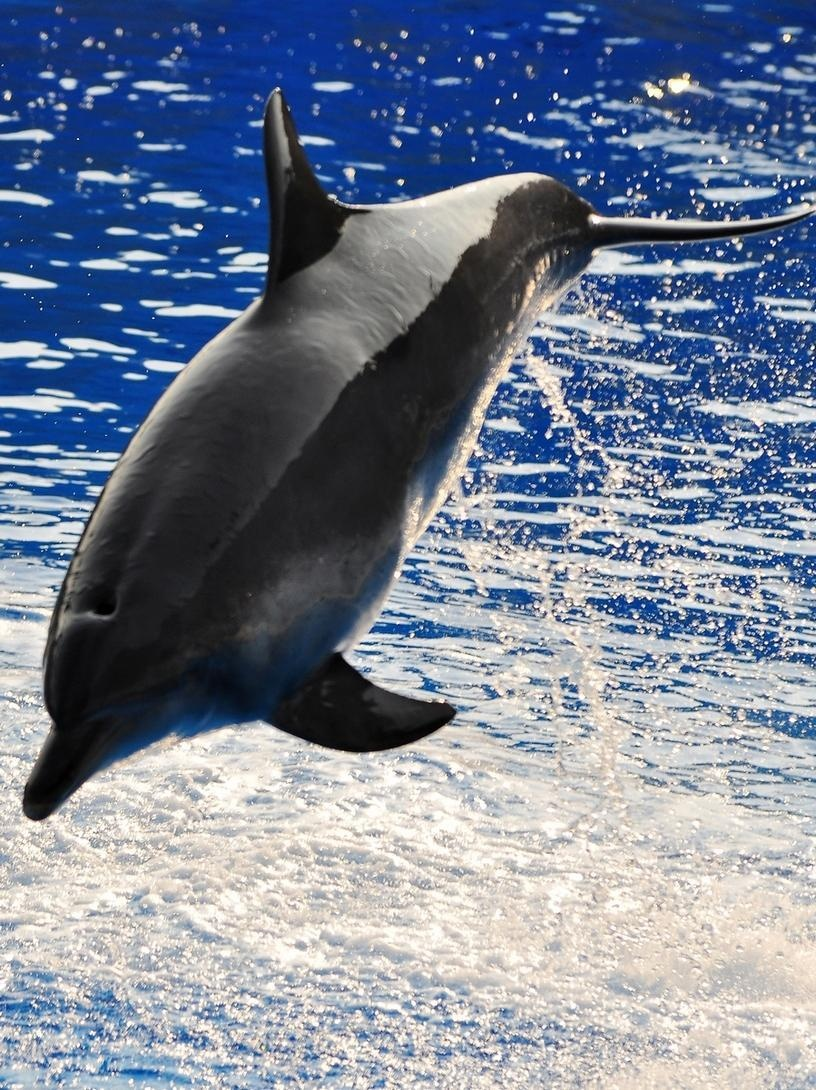fish: (18, 79, 816, 825)
